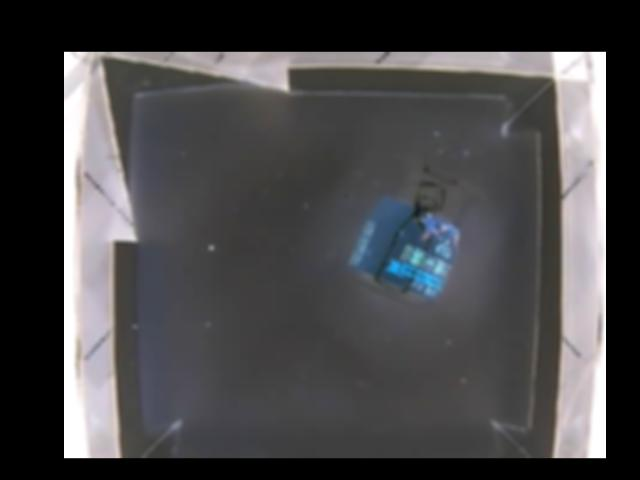Bottle: (344, 155, 469, 305)
